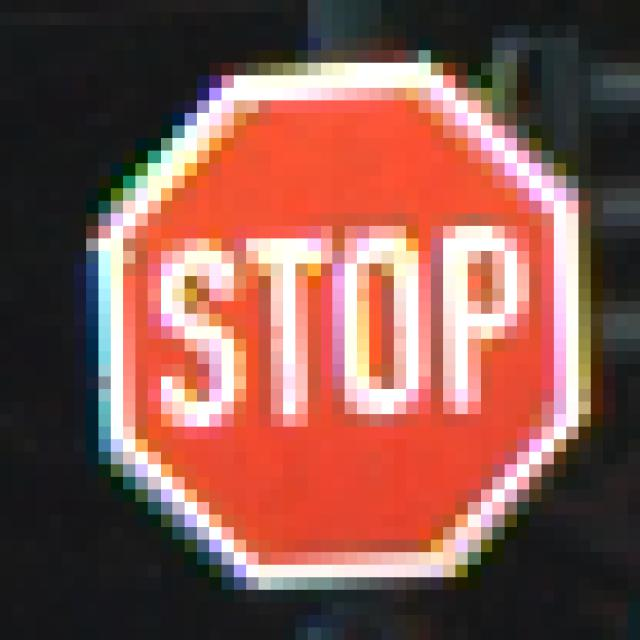STOP: (75, 64, 579, 578)
